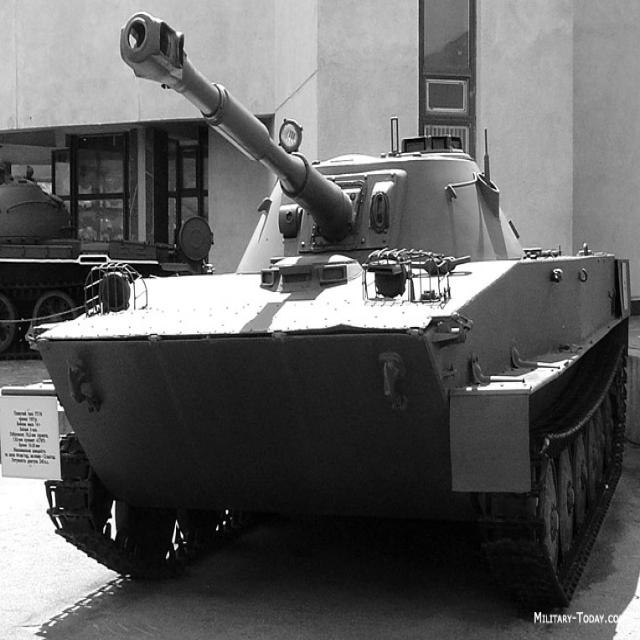Tank: (38, 7, 630, 608)
